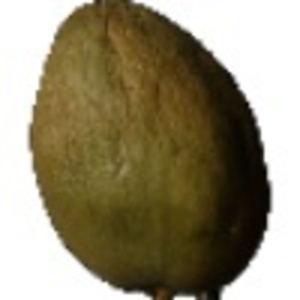mamão: (19, 2, 277, 291)
